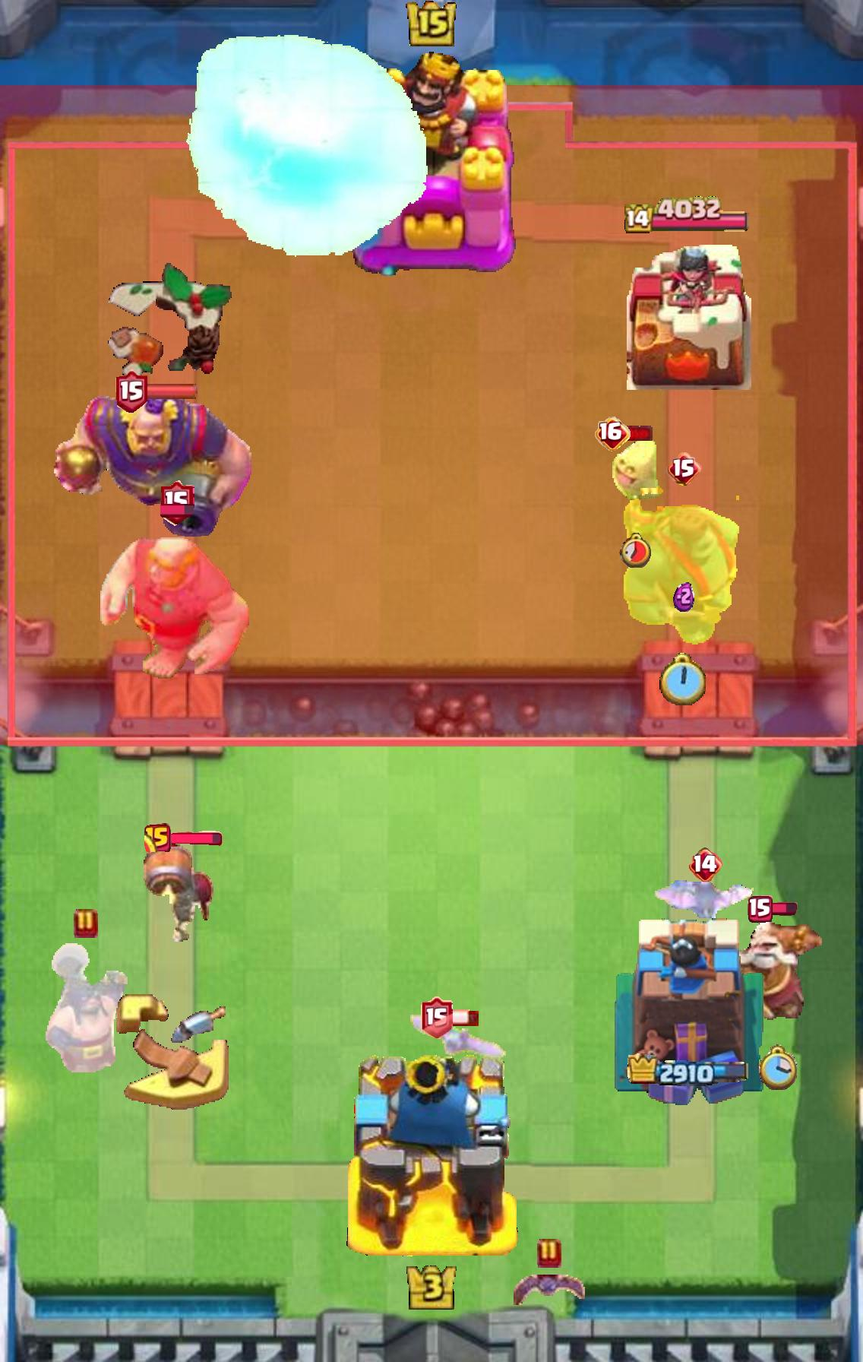bar: (144, 383, 198, 400), (168, 831, 223, 846), (449, 1009, 479, 1027), (626, 425, 655, 443), (769, 902, 798, 916)
bar-level: (161, 480, 195, 526), (115, 369, 147, 413), (421, 996, 453, 1038), (665, 452, 702, 486), (594, 417, 630, 451), (689, 848, 722, 882), (144, 823, 172, 852), (74, 908, 98, 939), (537, 1238, 561, 1269), (747, 895, 772, 923)
